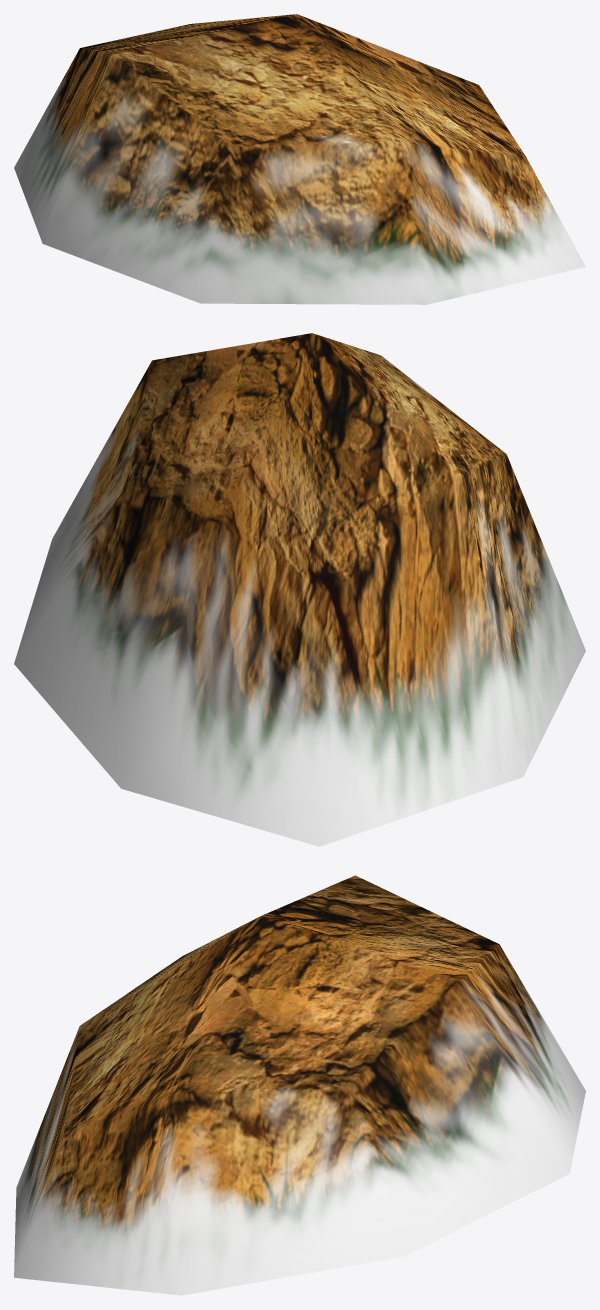
Rendered from Rock03.FBX.
3 views of the same model, one above another, from view 1: azimuth 30°, elevation 25°; view 2: azimuth 150°, elevation 25°; view 3: azimuth 270°, elevation 25° (orthographic). The views are drawn at different scales.
Parts seen in each view (by area): view 1: Box01; view 2: Box01; view 3: Box01.
Part boxes in pixels (x1,y1,x2,y2): Box01: (14, 14, 585, 304); Box01: (14, 333, 585, 846); Box01: (14, 875, 585, 1295).
Size of the model in its own units: 66.88 by 33.9 by 68.27.
1 material, 1 textured.
